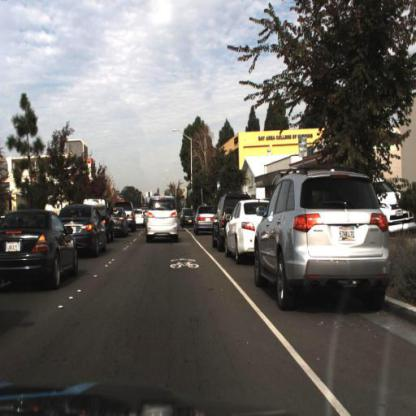car: (254, 166, 393, 320), (1, 201, 82, 305), (75, 196, 111, 268), (223, 196, 258, 269), (142, 190, 183, 247), (209, 192, 229, 257), (193, 203, 218, 238), (113, 207, 129, 240), (180, 204, 197, 233), (105, 206, 115, 246), (126, 204, 138, 230), (135, 207, 145, 231)
